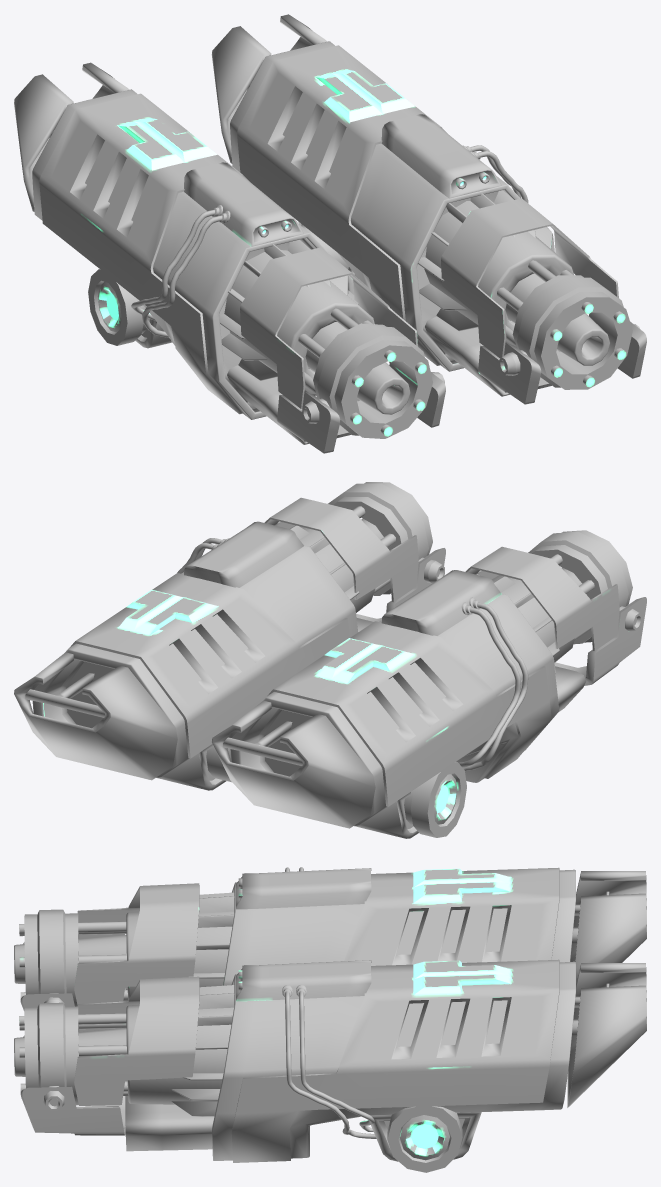
File: Weapon1.fbx
The picture shows the model from 3 angles, top to bottom: view 1: azimuth 30°, elevation 25°; view 2: azimuth 150°, elevation 25°; view 3: azimuth 270°, elevation 25°; orthographic projection. The views are drawn at different scales.
Visible parts, largest first — view 1: Plane.006; view 2: Plane.006; view 3: Plane.006.
Part boxes in pixels (x1=…): Plane.006: x1=14, y1=14, x2=646, y2=453; Plane.006: x1=14, y1=482, x2=646, y2=838; Plane.006: x1=14, y1=867, x2=646, y2=1172.
Size of the model in its own units: 136 by 67.08 by 218.
